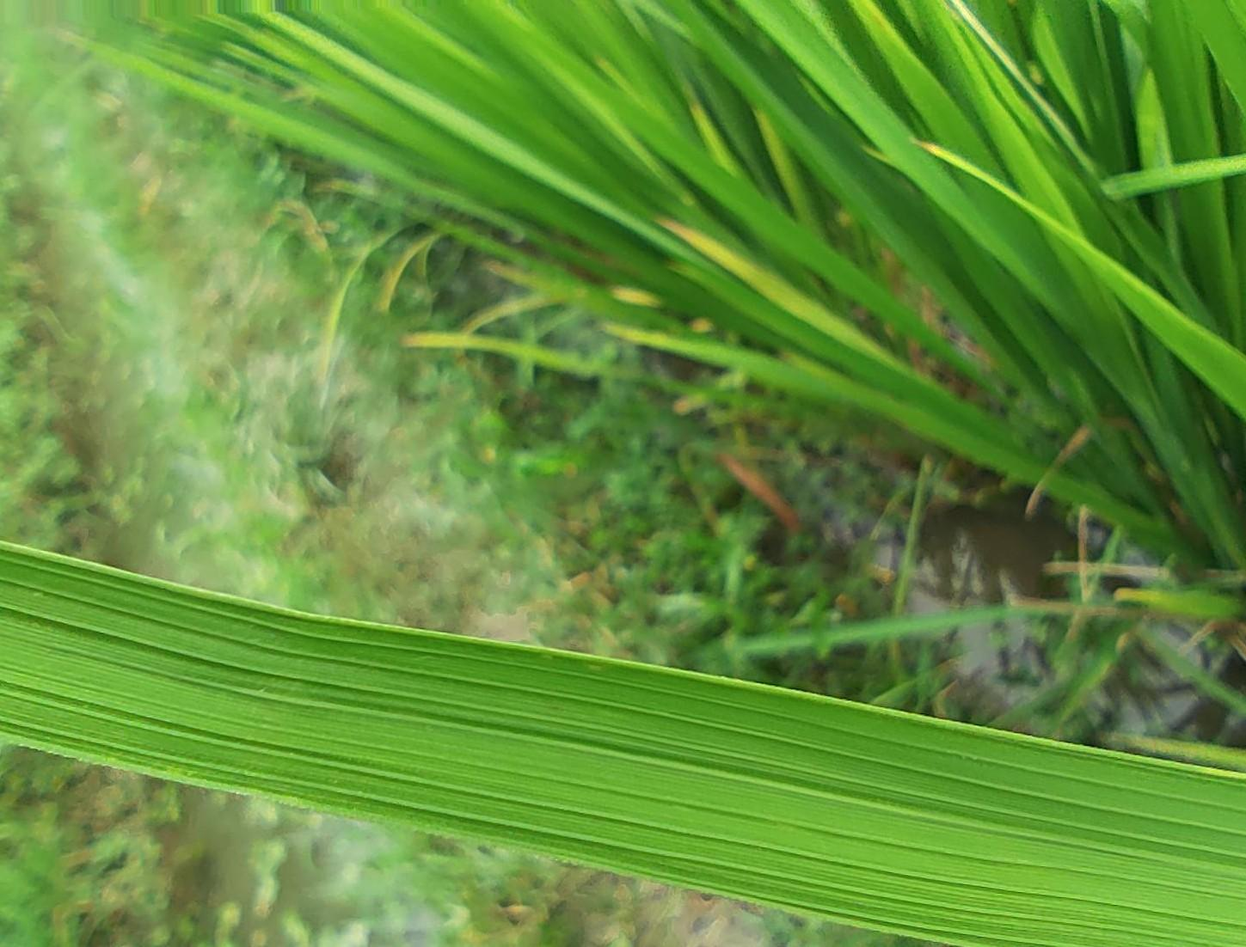Healthy: (0, 541, 1245, 946)
